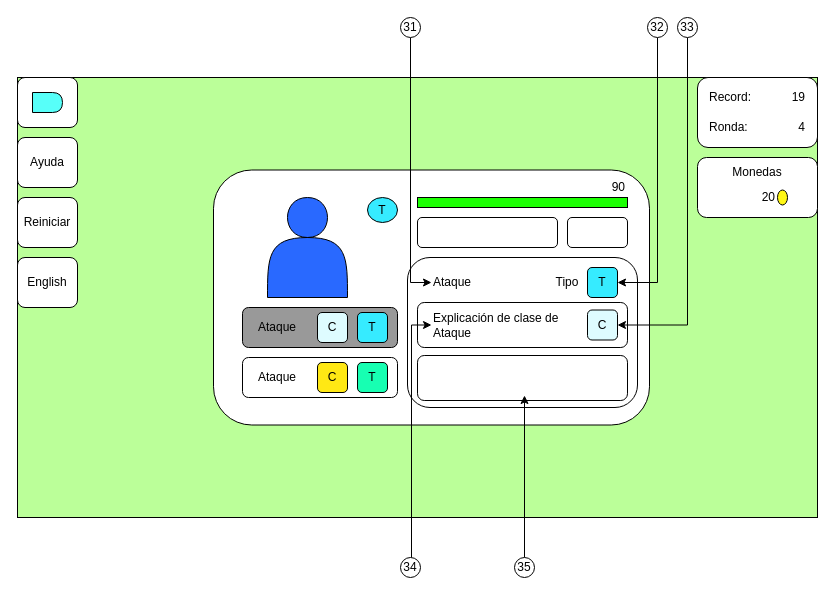
Image size: 835x595. Some labels were removed from this diagram. Here are the shapes that lost their labels. From the top down, the box of each, then its label:
(416, 216, 558, 248): Estadísticas
(566, 216, 628, 248): Volver
(416, 354, 628, 400): Descripción del ataque
